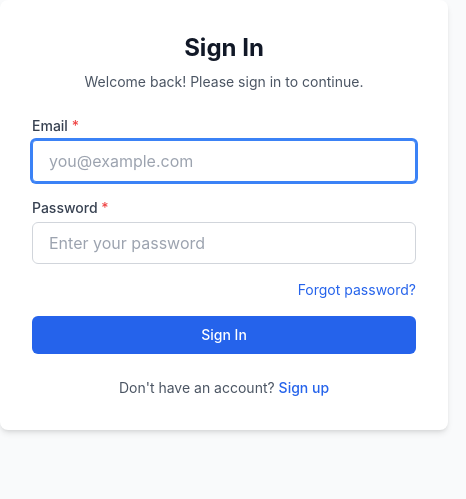
it: SignInForm Component › Form Validation › should show error when email is empty
Click the button "Sign In": (224, 335) x1=32 y1=316 x2=416 y2=354
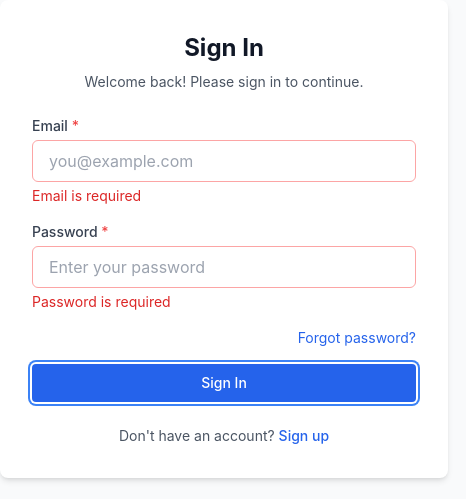
Result: the text "Email is required" is shown at x1=32 y1=187 x2=141 y2=204
